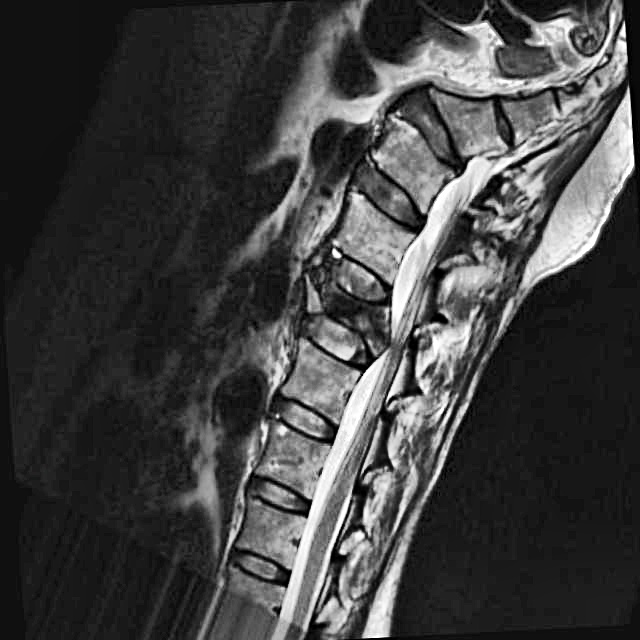Comminuted: (275, 244, 407, 376)
